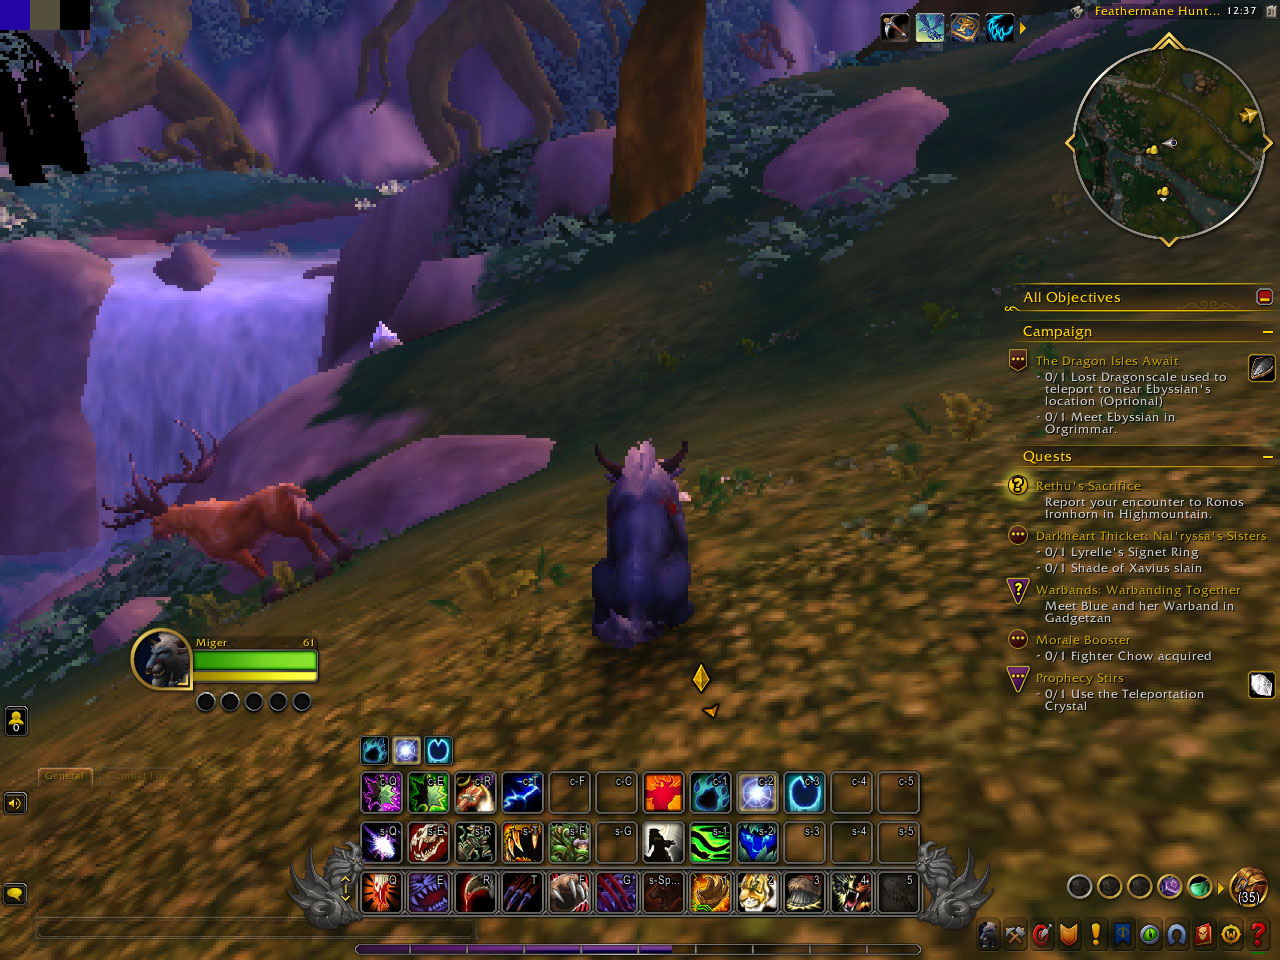ore: (366, 318, 404, 356)
